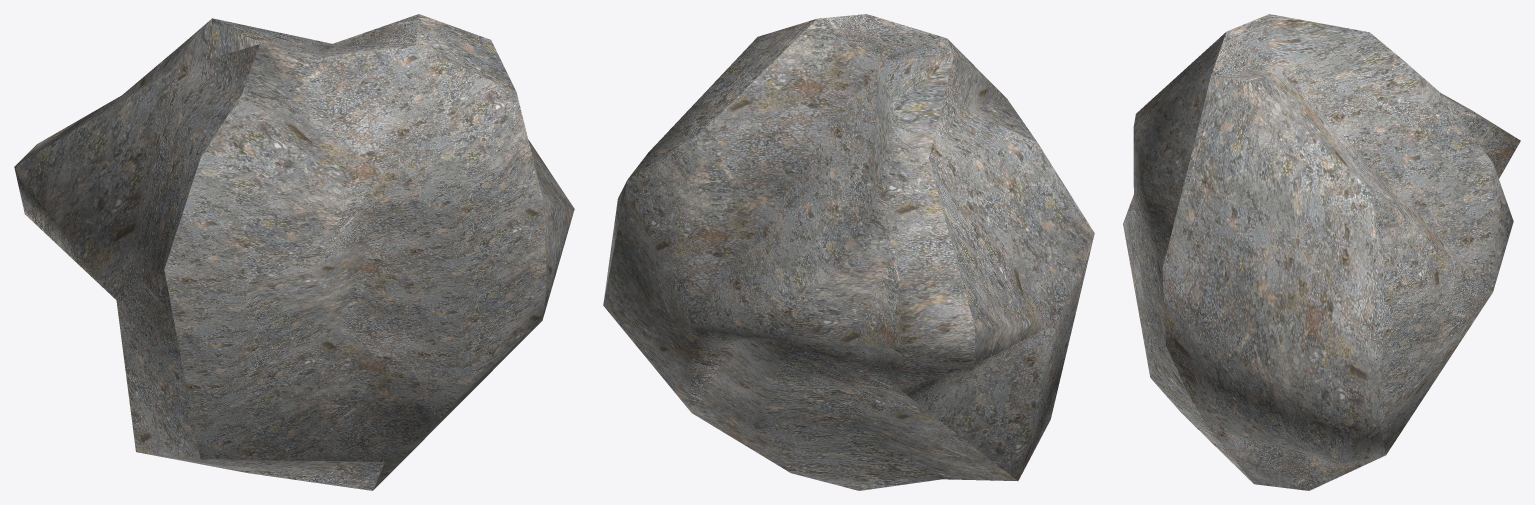
Rendered from rocks_rock1.glb.
3 views of the same model, side by side, from view 1: azimuth 30°, elevation 25°; view 2: azimuth 150°, elevation 25°; view 3: azimuth 270°, elevation 25° (orthographic). The views are drawn at different scales.
Visible parts, largest first — view 1: rock1; view 2: rock1; view 3: rock1.
Boxes of the visible parts, x1,y1,x2,y2 form: rock1: (14,14,574,490); rock1: (603,14,1094,490); rock1: (1123,14,1520,490).
Size of the model in its own units: 3.36 by 3.29 by 2.8.
1 material, 1 textured.
